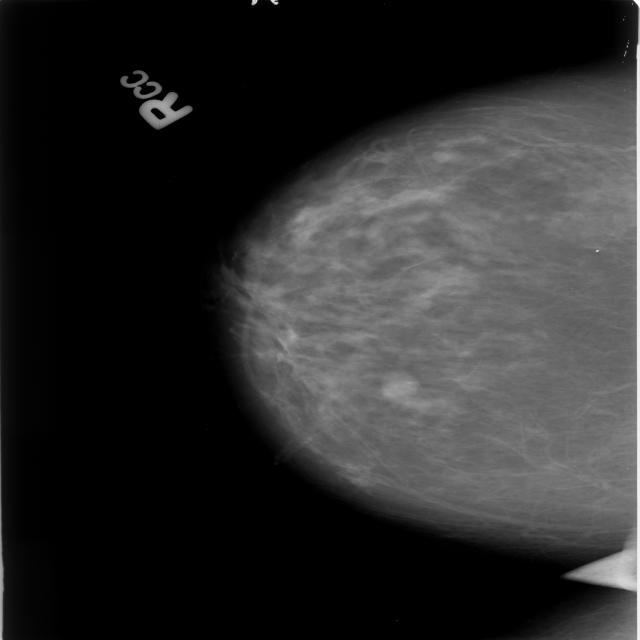cancer: (296, 187, 449, 256), (377, 357, 478, 461), (217, 275, 316, 369)
